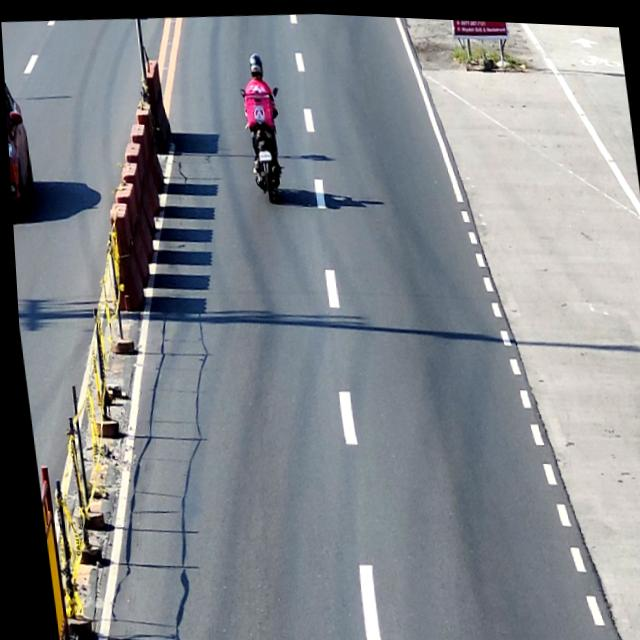Car: (3, 71, 35, 213)
License-Plate: (255, 147, 270, 159)
Motorcycle: (238, 82, 291, 203)
